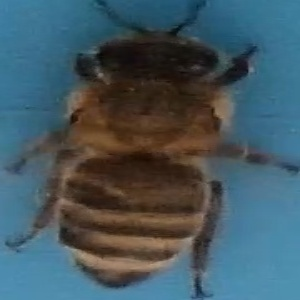bee: (13, 8, 288, 300)
